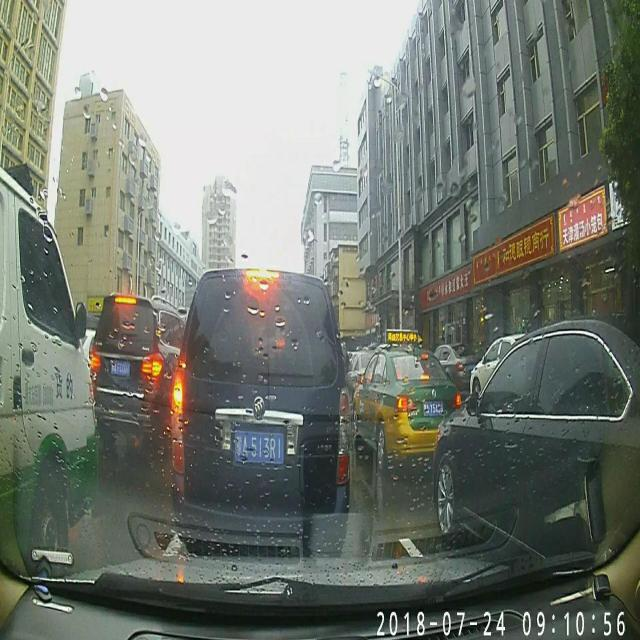car: (171, 268, 351, 556), (432, 319, 640, 556), (0, 168, 97, 570), (352, 332, 462, 478), (89, 292, 185, 456), (468, 333, 526, 393), (430, 342, 474, 390)
